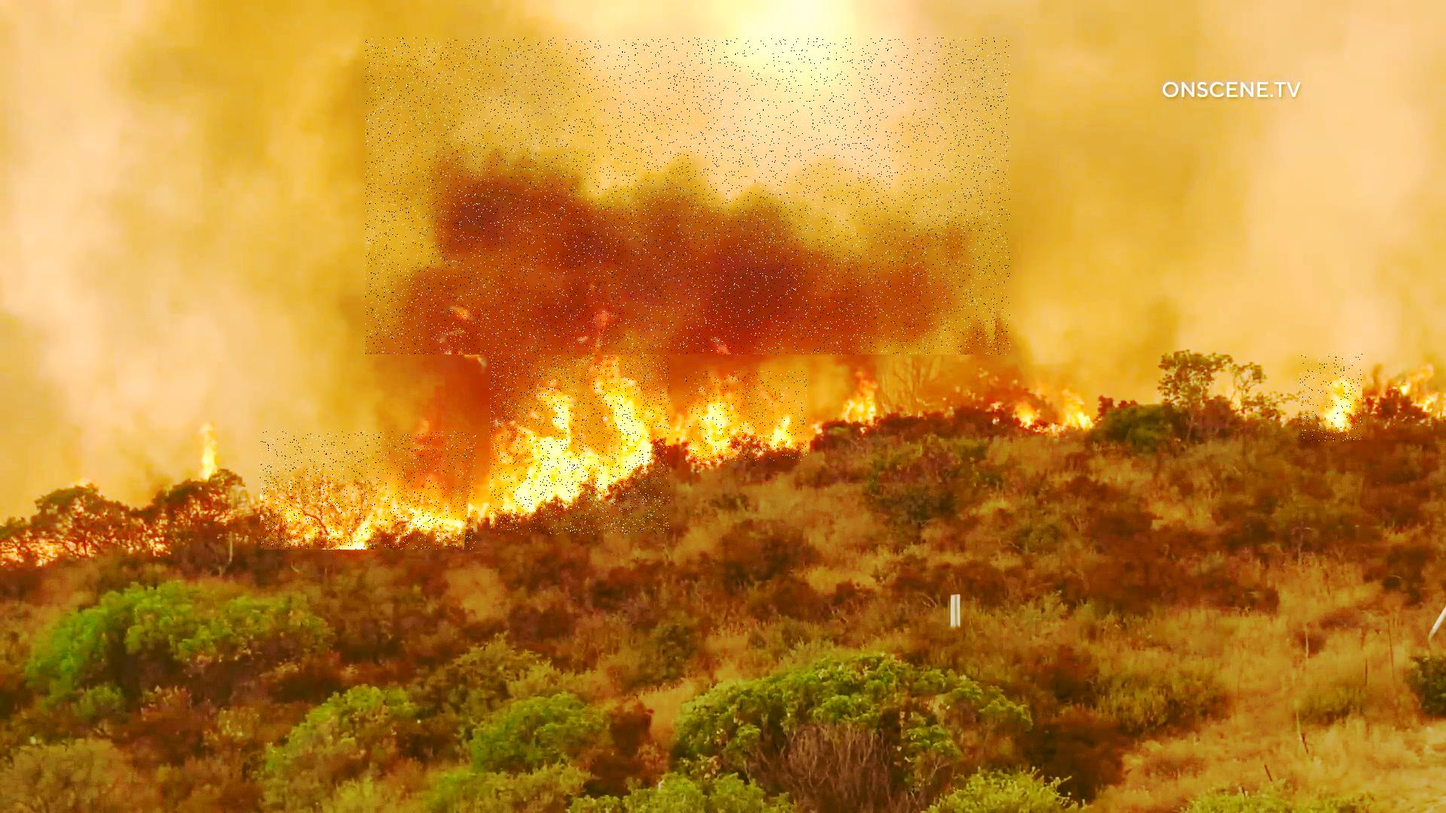fire: (490, 334, 670, 535), (260, 431, 477, 550), (686, 371, 807, 461), (1299, 355, 1362, 443)
smoke: (365, 38, 1010, 355)
